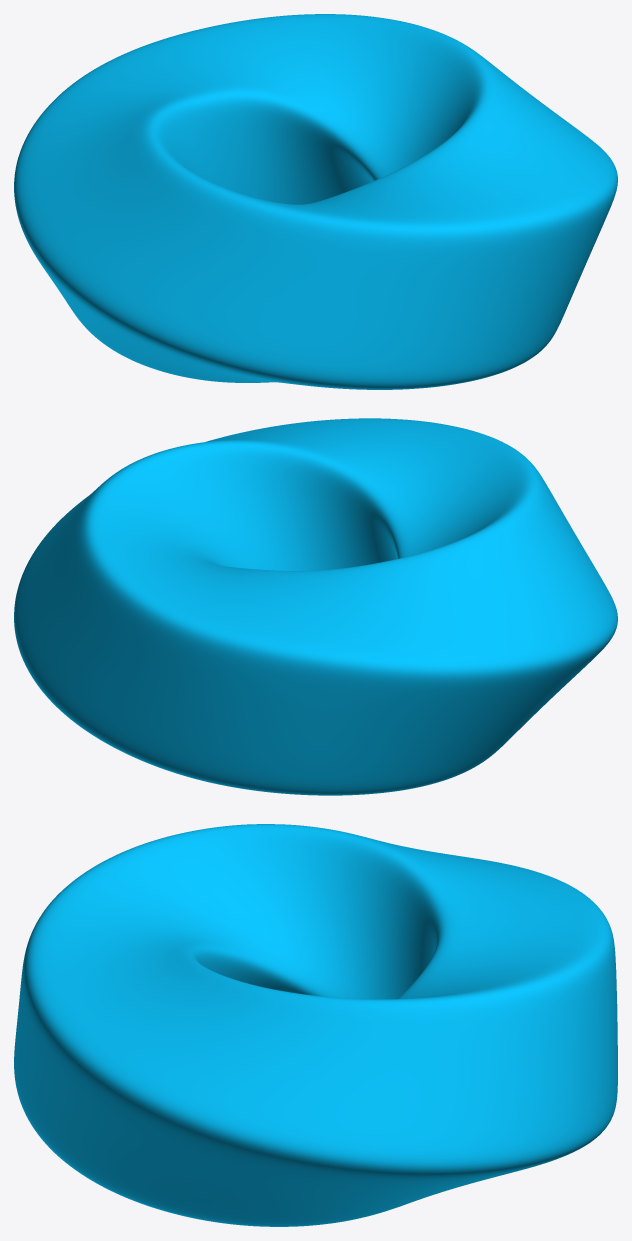
Rendered from mobius_strip_pendant.glb.
The picture shows the model from 3 angles, top to bottom: view 1: azimuth 30°, elevation 25°; view 2: azimuth 150°, elevation 25°; view 3: azimuth 270°, elevation 25°; orthographic projection. The views are drawn at different scales.
Visible parts, largest first — view 1: Cube; view 2: Cube; view 3: Cube.
Part boxes in pixels (left/top/right/bottom): Cube: left=14, top=14, right=617, bottom=389; Cube: left=14, top=418, right=617, bottom=795; Cube: left=14, top=824, right=617, bottom=1226.
Bounding box in the file's own units: 674 × 255 × 624.
